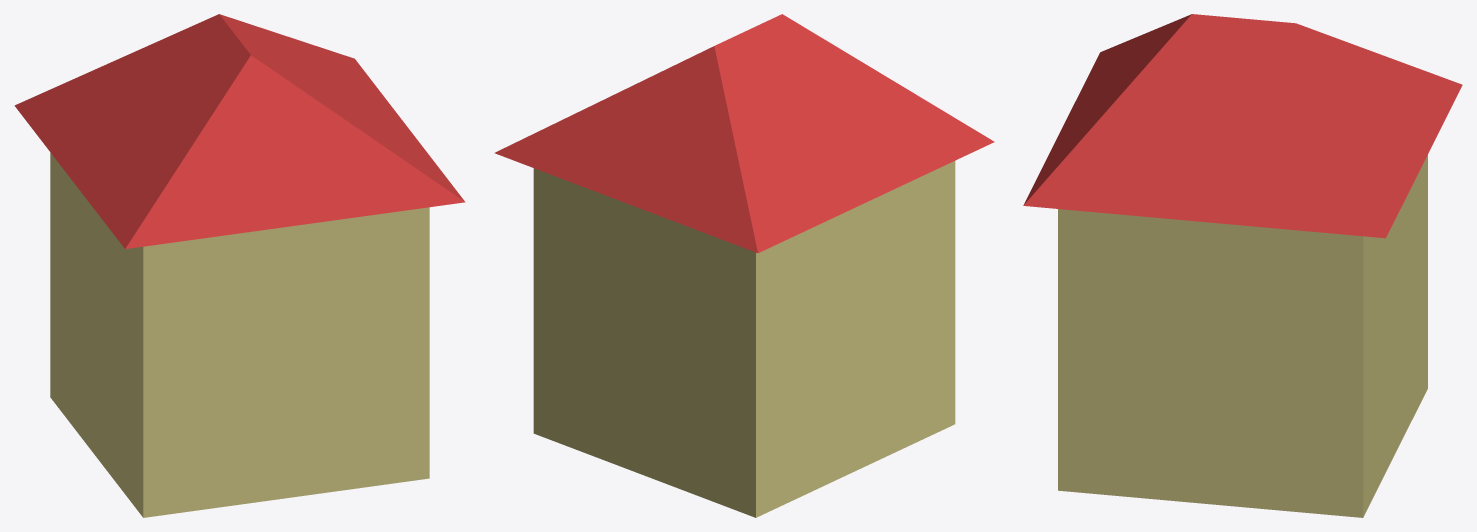
3 renders of one model, left to right at view 1: azimuth 30°, elevation 25°; view 2: azimuth 150°, elevation 25°; view 3: azimuth 270°, elevation 25°, orthographic. The views are drawn at different scales.
Parts seen in each view (by area): view 1: group_5, group_3, group_4; view 2: group_5, group_3, group_4; view 3: group_5, group_3, group_4.
Boxes of the visible parts, box(x1,y1,x2,y2) form: group_5: box(50, 152, 429, 517); group_3: box(14, 14, 449, 248); group_4: box(16, 54, 465, 248); group_5: box(533, 161, 955, 517); group_3: box(494, 14, 993, 252); group_4: box(645, 120, 994, 252); group_5: box(1058, 155, 1427, 517); group_3: box(1058, 14, 1462, 237); group_4: box(1023, 53, 1462, 238).
Size of the model in its own units: 14.93 by 14.92 by 15.68.
